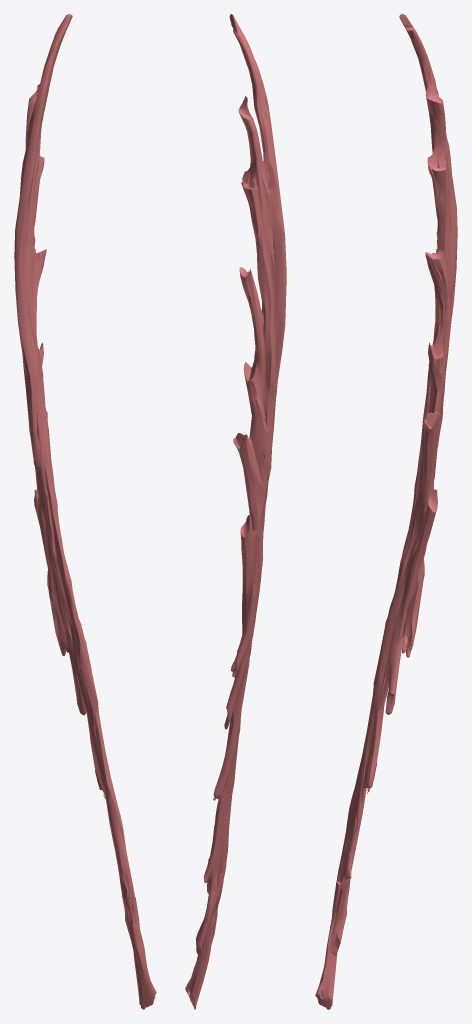
3 views of the same model, side by side, from view 1: azimuth 90°, elevation 25°; view 2: azimuth 210°, elevation 25°; view 3: azimuth 270°, elevation 25° (orthographic). The views are drawn at different scales.
Visible parts, largest first — view 1: FJ1544; view 2: FJ1544; view 3: FJ1544.
Part boxes in pixels (bbox=[...]): FJ1544: bbox=[14, 14, 156, 1009]; FJ1544: bbox=[185, 14, 286, 1009]; FJ1544: bbox=[315, 14, 457, 1009].
Bounding box in the file's own units: 0.0143 × 0.3586 × 0.0465.
